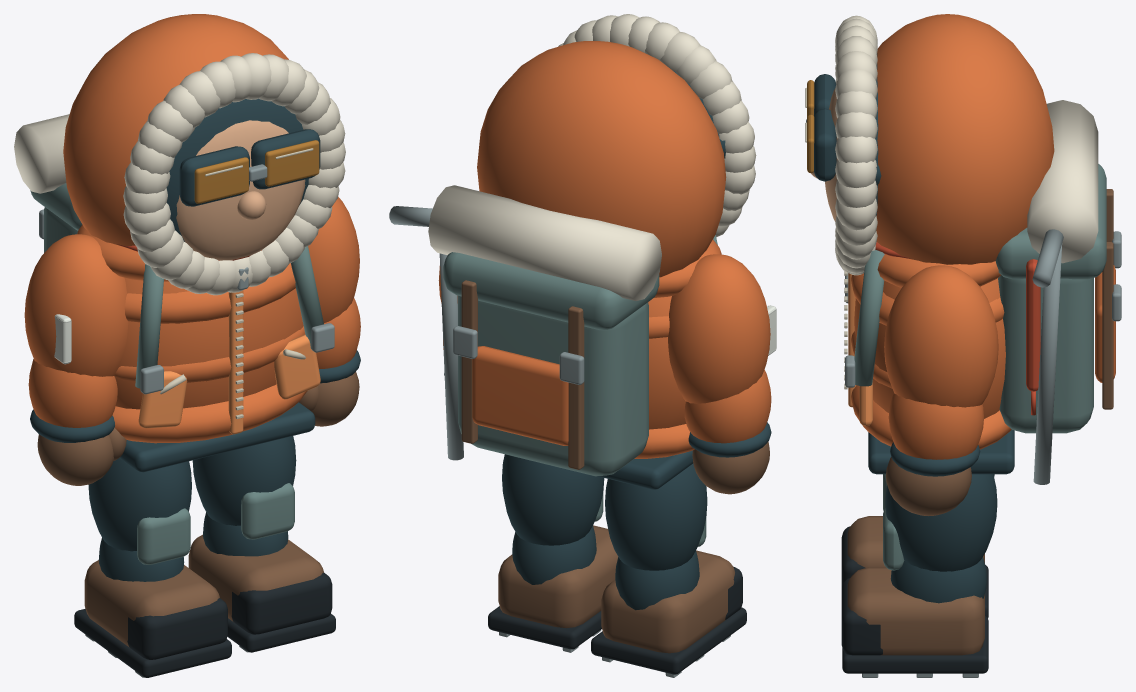
The model's file is climber.glb.
The picture shows the model from 3 angles, left to right: view 1: azimuth 30°, elevation 25°; view 2: azimuth 150°, elevation 25°; view 3: azimuth 270°, elevation 25°; orthographic projection. The views are drawn at different scales.
Parts seen in each view (by area): view 1: Body_Mesh, Leg_L_Mesh, Leg_R_Mesh, Arm_L_Mesh, Arm_R_Mesh; view 2: Body_Mesh, Leg_L_Mesh, Arm_L_Mesh, Leg_R_Mesh; view 3: Body_Mesh, Leg_R_Mesh, Arm_R_Mesh, Leg_L_Mesh, ScarfTail_Mesh.
Part boxes in pixels (x1,y1,x2,y2): Body_Mesh: (14, 14, 345, 472); Leg_L_Mesh: (74, 458, 231, 677); Leg_R_Mesh: (188, 436, 335, 652); Arm_L_Mesh: (24, 234, 128, 485); Arm_R_Mesh: (299, 197, 360, 426); Body_Mesh: (389, 14, 756, 489); Leg_L_Mesh: (591, 463, 746, 677); Arm_L_Mesh: (668, 254, 776, 494); Leg_R_Mesh: (488, 454, 618, 652); Body_Mesh: (805, 14, 1121, 484); Leg_R_Mesh: (841, 474, 997, 677); Arm_R_Mesh: (884, 265, 998, 515); Leg_L_Mesh: (841, 474, 994, 617); ScarfTail_Mesh: (1026, 259, 1040, 415).
Bounding box in the file's own units: 0.9018 × 1.6 × 0.7555.
